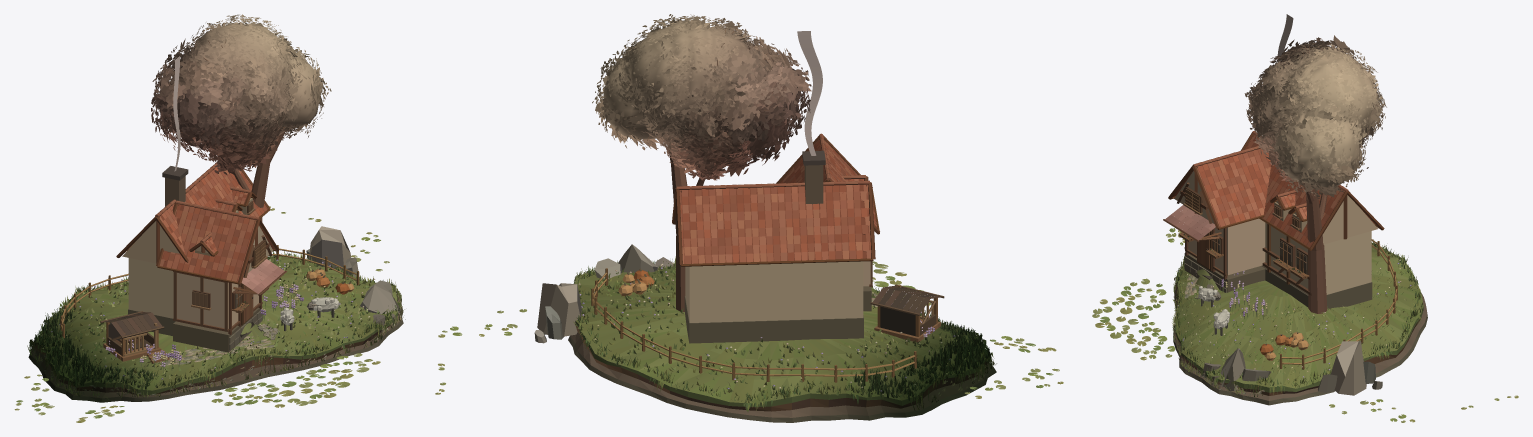
File: island_model.glb
3 views of the same model, side by side, from view 1: azimuth 30°, elevation 25°; view 2: azimuth 150°, elevation 25°; view 3: azimuth 270°, elevation 25° (orthographic). The views are drawn at different scales.
Parts seen in each view (by area): view 1: CottageWalls, TurfAndEarth, AutumnOak, BankFoliage, Meadow, SlateAndCobbles, LilyPads, PorchAndGarden, FoxglovesAndWildflowers, Fence, OakWood, Sheep (+1 smaller); view 2: CottageWalls, TurfAndEarth, AutumnOak, BankFoliage, Meadow, PorchAndGarden, SlateAndCobbles, Fence, LilyPads, ChimneySmoke, OakWood; view 3: CottageWalls, TurfAndEarth, AutumnOak, SlateAndCobbles, BankFoliage, LilyPads, Meadow, OakWood, Fence, Sheep, PorchAndGarden, FoxglovesAndWildflowers.
Part boxes in pixels (box(x1,y1,x2,y2)): CottageWalls: box(116, 162, 286, 352); TurfAndEarth: box(28, 256, 403, 402); AutumnOak: box(151, 14, 331, 175); BankFoliage: box(27, 251, 405, 399); Meadow: box(37, 253, 391, 383); SlateAndCobbles: box(158, 226, 401, 365); LilyPads: box(14, 206, 389, 422); PorchAndGarden: box(100, 267, 354, 363); FoxglovesAndWildflowers: box(105, 283, 303, 372); Fence: box(60, 245, 359, 338); OakWood: box(166, 39, 314, 221); Sheep: box(280, 297, 339, 330); CottageWalls: box(672, 133, 879, 343); TurfAndEarth: box(568, 263, 996, 422); AutumnOak: box(592, 14, 811, 180); BankFoliage: box(573, 256, 996, 412); Meadow: box(573, 261, 971, 399); PorchAndGarden: box(618, 268, 944, 342); SlateAndCobbles: box(534, 244, 877, 343); Fence: box(591, 268, 916, 382); LilyPads: box(435, 261, 1063, 398); ChimneySmoke: box(797, 31, 822, 155); OakWood: box(647, 27, 795, 311); CottageWalls: box(1163, 131, 1384, 308); TurfAndEarth: box(1173, 242, 1427, 405); AutumnOak: box(1244, 35, 1386, 198); SlateAndCobbles: box(1184, 274, 1382, 395); BankFoliage: box(1172, 239, 1423, 396); LilyPads: box(1092, 228, 1518, 422); Meadow: box(1172, 241, 1415, 386); OakWood: box(1266, 46, 1327, 313); Fence: box(1279, 239, 1397, 369); Sheep: box(1198, 286, 1230, 335); PorchAndGarden: box(1259, 332, 1308, 360); FoxglovesAndWildflowers: box(1221, 270, 1267, 319).
Bounding box in the file's own units: 16.04 × 9.97 × 13.15.
